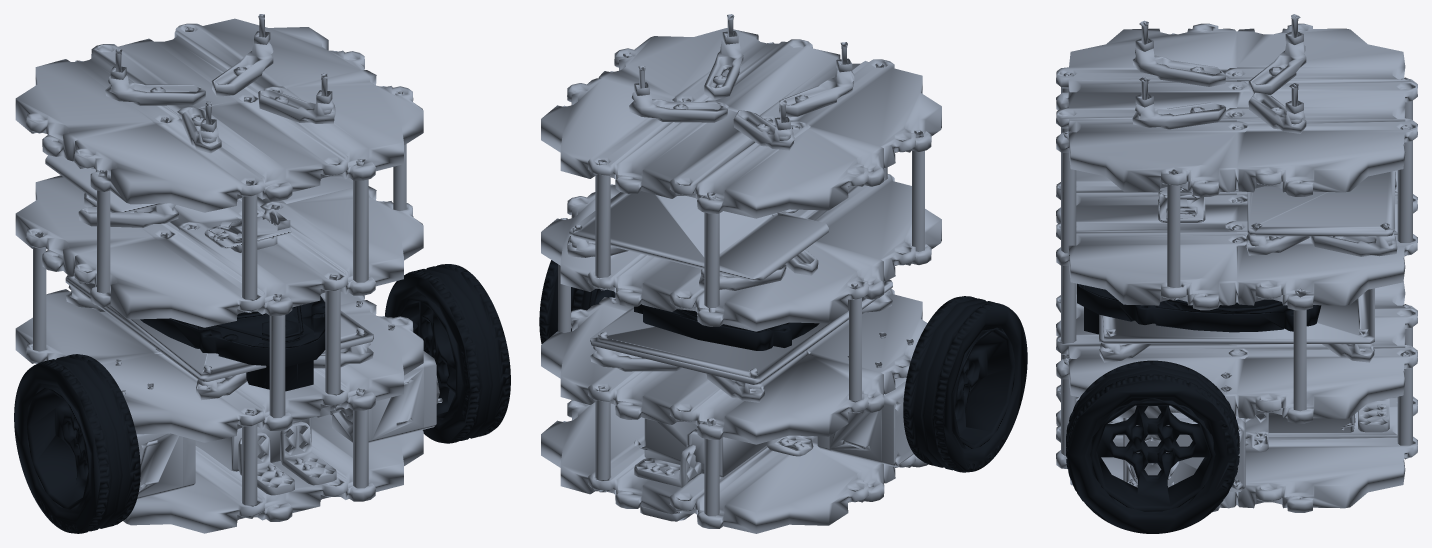
File: turtlebot3-min.glb
3 views of the same model, side by side, from view 1: azimuth 30°, elevation 25°; view 2: azimuth 150°, elevation 25°; view 3: azimuth 270°, elevation 25° (orthographic).
Bounding box in the file's own units: 0.3717 × 0.3559 × 0.2869.
